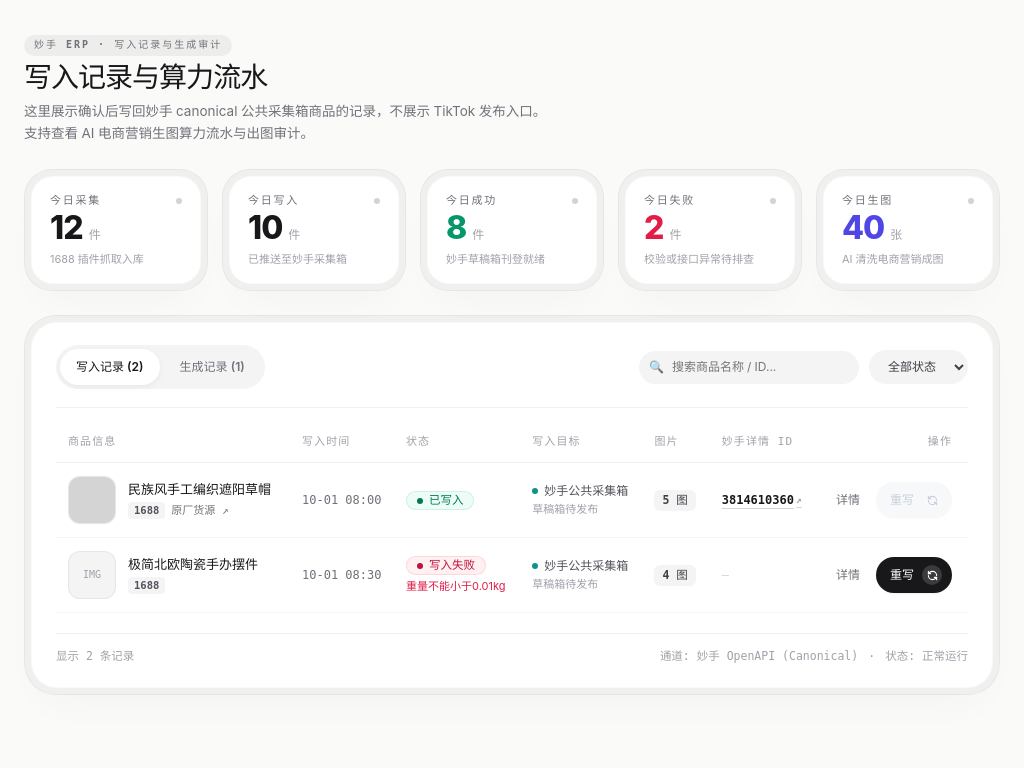
it: WriteRecordsWorkspace › switches to generation records tab and displays AI audit details
The width and height of the screenshot is (1024, 768).
Click the button "生成记录 (1)" at (212, 368), box top-left (164, 350), bottom-right (261, 386)
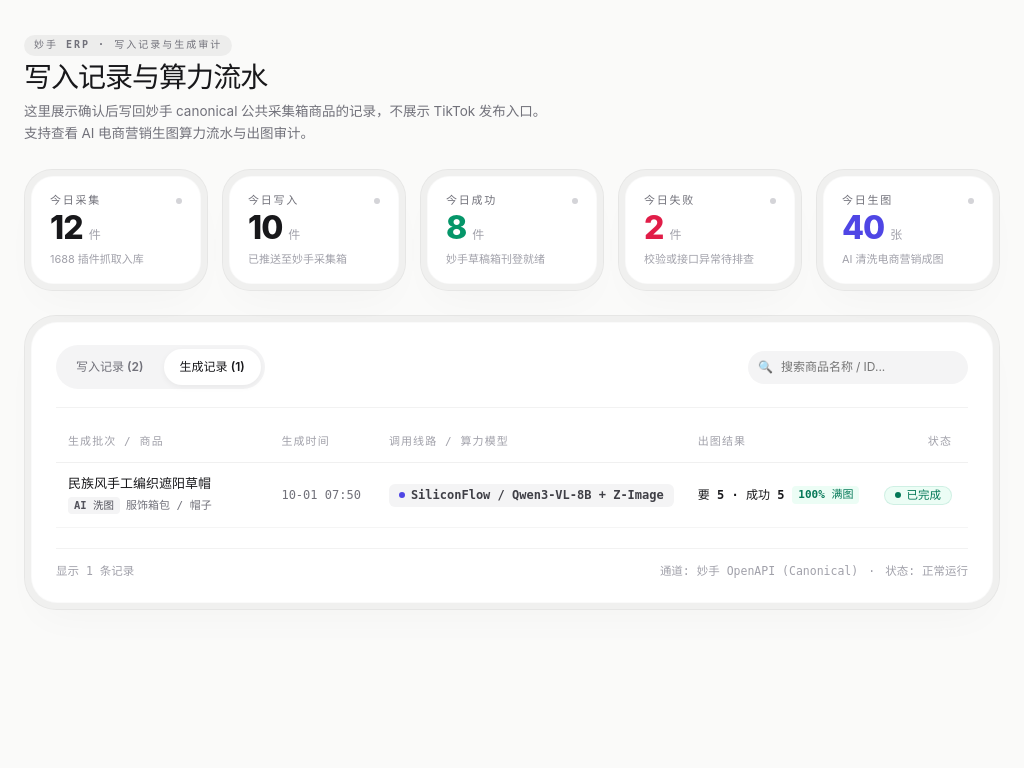
Expected: the column heading "调用线路 / 算力模型" is shown, top-left (377, 422), bottom-right (686, 463)
Expected: the text "SiliconFlow / Qwen3-VL-8B + Z-Image" is shown, top-left (389, 484), bottom-right (674, 507)
Expected: the text "要 5 · 成功 5" is shown, top-left (698, 487), bottom-right (784, 504)
